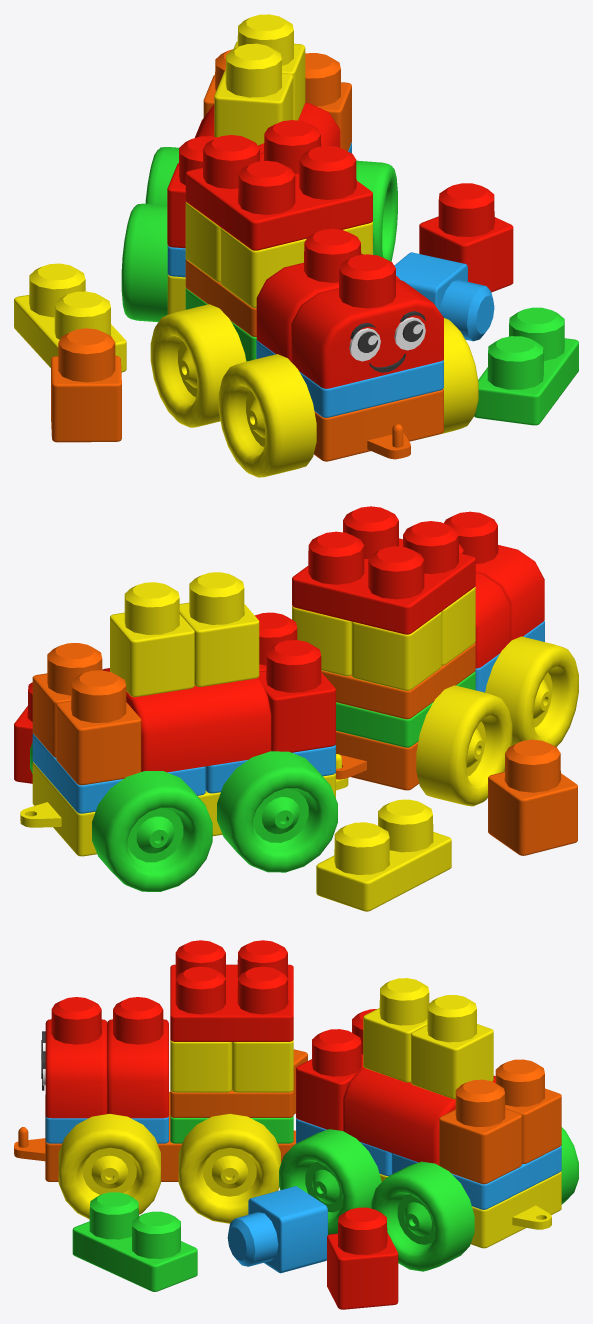
File: Cake_ThemeToys_H.FBX
The picture shows the model from 3 angles, top to bottom: view 1: azimuth 30°, elevation 25°; view 2: azimuth 150°, elevation 25°; view 3: azimuth 270°, elevation 25°; orthographic projection. The views are drawn at different scales.
Parts seen in each view (by area): view 1: Cake_ThemeToys_H; view 2: Cake_ThemeToys_H; view 3: Cake_ThemeToys_H.
Boxes of the visible parts, x1,y1,x2,y2 form: Cake_ThemeToys_H: (14, 14, 578, 477); Cake_ThemeToys_H: (14, 506, 578, 911); Cake_ThemeToys_H: (14, 940, 578, 1309).
Size of the model in its own units: 89981 by 43848 by 98308.
